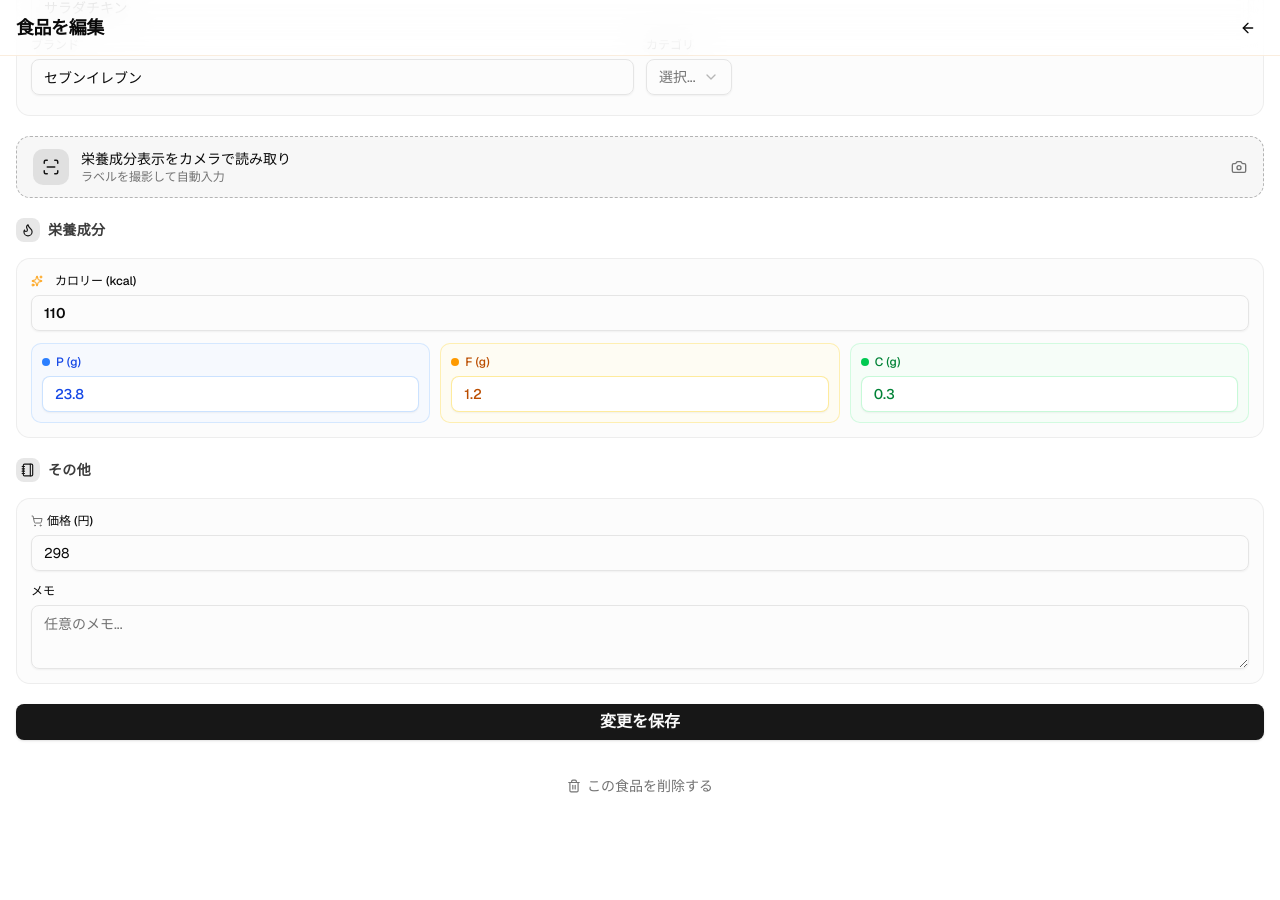
Test case: FoodMasterFormView (S-08a 食品マスタ登録/編集) › 編集 › 02 削除確認: キャンセルすると消さない
The image size is (1280, 900).
(page scrolled)
Click the button "この食品を削除する".
click(640, 786)  # box [16,768,1264,804]
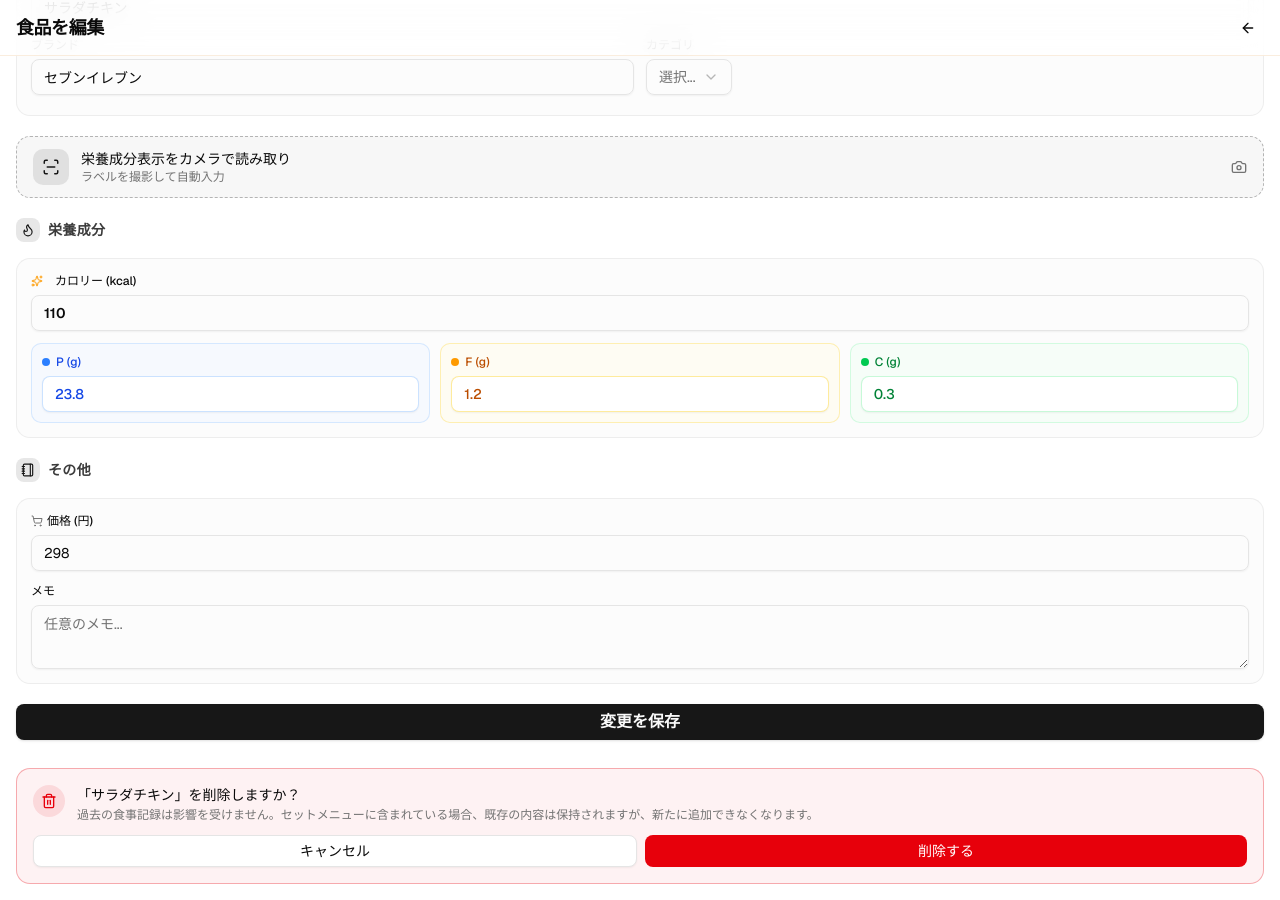
Click the button "キャンセル".
click(335, 851)  # box [33,835,637,867]
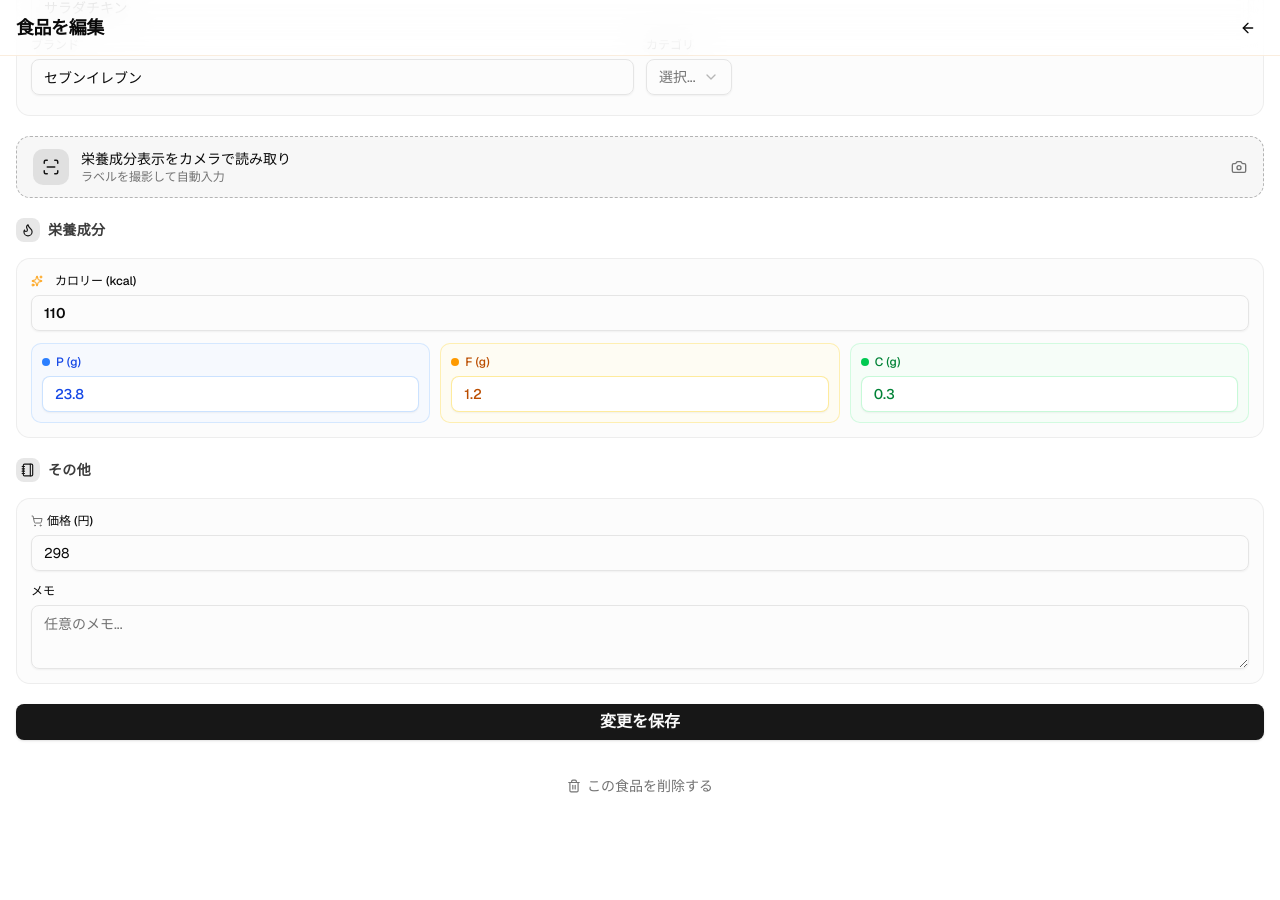
Result: the text "「サラダチキン」を削除しますか？" is gone
